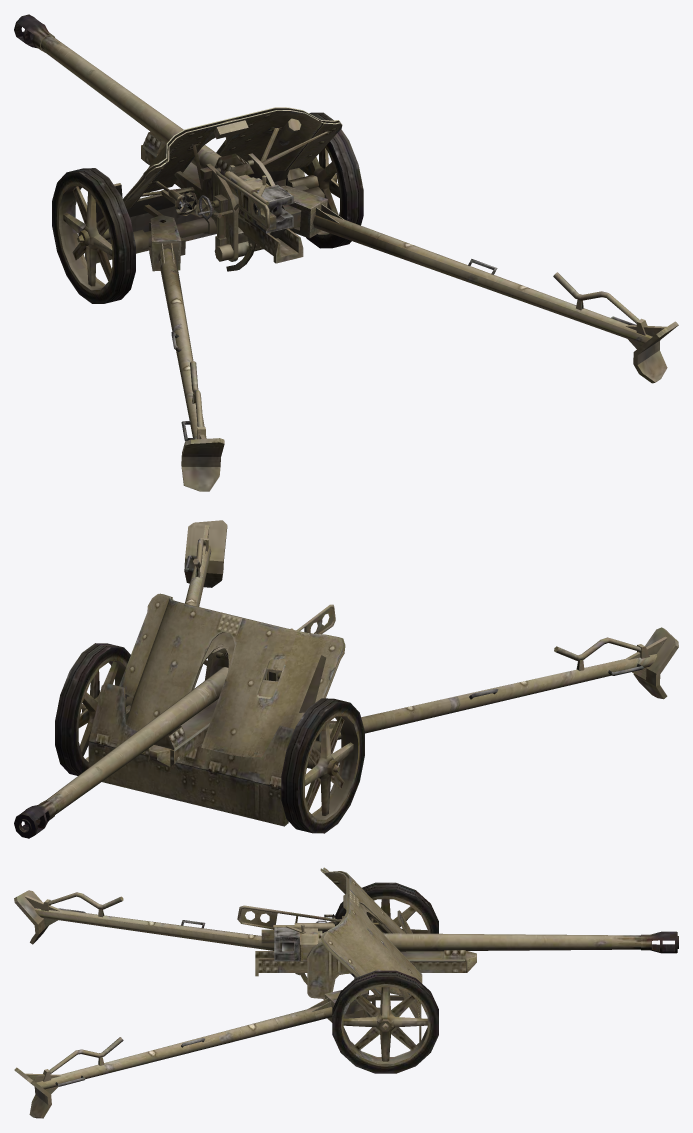
Rendered from Mec_YeZhanPao.FBX.
3 views of the same model, one above another, from view 1: azimuth 30°, elevation 25°; view 2: azimuth 150°, elevation 25°; view 3: azimuth 270°, elevation 25° (orthographic). The views are drawn at different scales.
Visible parts, largest first — view 1: LOD01_pak0, LOD01_pak1, LOD01_pak3, LOD01_pak2; view 2: LOD01_pak0, LOD01_pak1, LOD01_pak3, LOD01_pak2; view 3: LOD01_pak0, LOD01_pak1, LOD01_pak3, LOD01_pak2.
Part boxes in pixels (x1=…): LOD01_pak0: x1=52, y1=112, x2=678, y2=491; LOD01_pak1: x1=122, y1=107, x2=342, y2=261; LOD01_pak3: x1=14, y1=14, x2=293, y2=238; LOD01_pak2: x1=141, y1=131, x2=303, y2=271; LOD01_pak0: x1=55, y1=520, x2=678, y2=833; LOD01_pak1: x1=119, y1=593, x2=345, y2=757; LOD01_pak3: x1=14, y1=628, x2=293, y2=838; LOD01_pak2: x1=145, y1=699, x2=218, y2=766; LOD01_pak0: x1=14, y1=882, x2=438, y2=1118; LOD01_pak1: x1=237, y1=867, x2=422, y2=998; LOD01_pak3: x1=273, y1=923, x2=678, y2=968; LOD01_pak2: x1=255, y1=922, x2=476, y2=999.
Size of the model in its own units: 44.14 by 14.75 by 65.13.
Materials: 1 (1 with a texture image).
